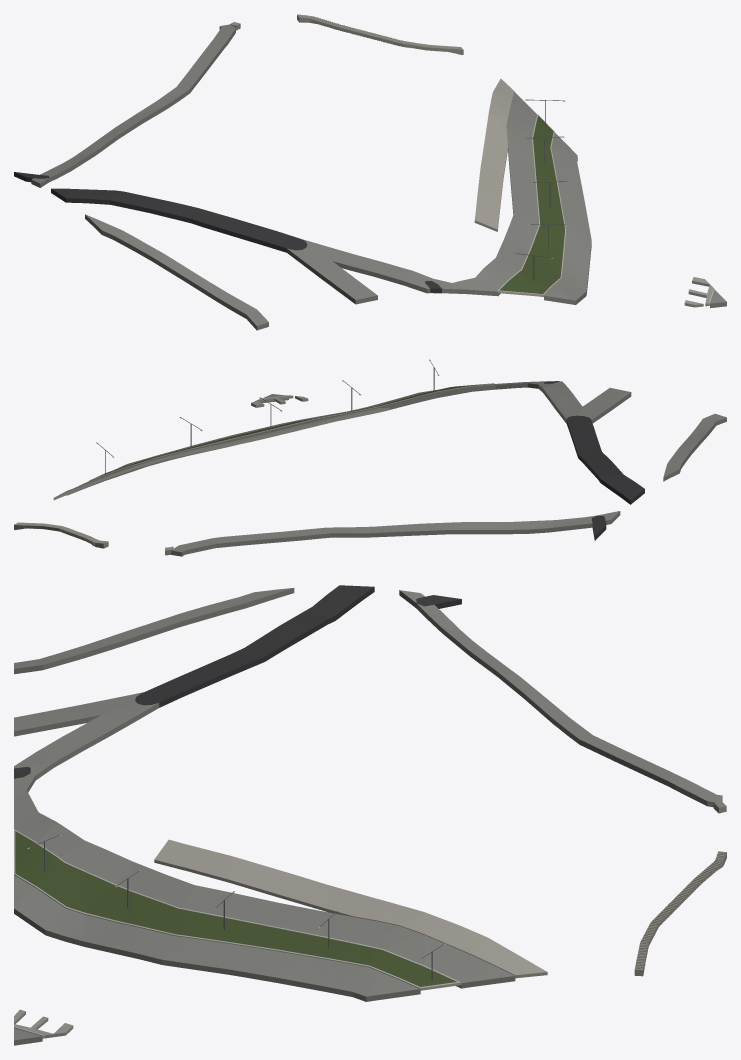
Rendered from 18-218910-118984.4beff48a.glb.
The picture shows the model from 3 angles, top to bottom: view 1: azimuth 30°, elevation 25°; view 2: azimuth 150°, elevation 25°; view 3: azimuth 270°, elevation 25°; orthographic projection. The views are drawn at different scales.
Bounding box in the file's own units: 150 × 36.15 × 147.
